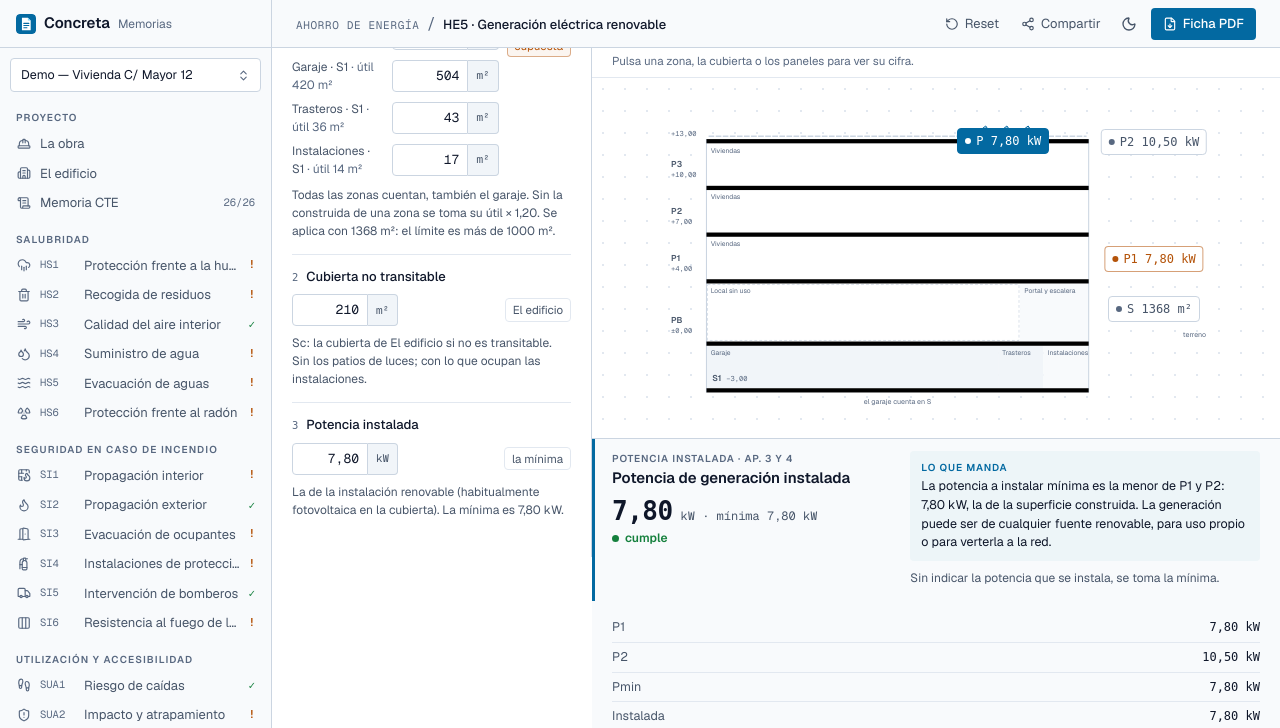
Test: HE5 · Generación eléctrica renovable (feature-22) › cabecera y decisiones; menos potencia de la mínima no cumple
(page scrolled)
expect the element "Superficie construida, cubierta y generación renovable" is shown: met, box [592,48,1279,557]
Replace the text in the field named "Potencia instalada" with "5" at (330, 459), box [292,443,368,475]
Then press Enter
(page scrolled)
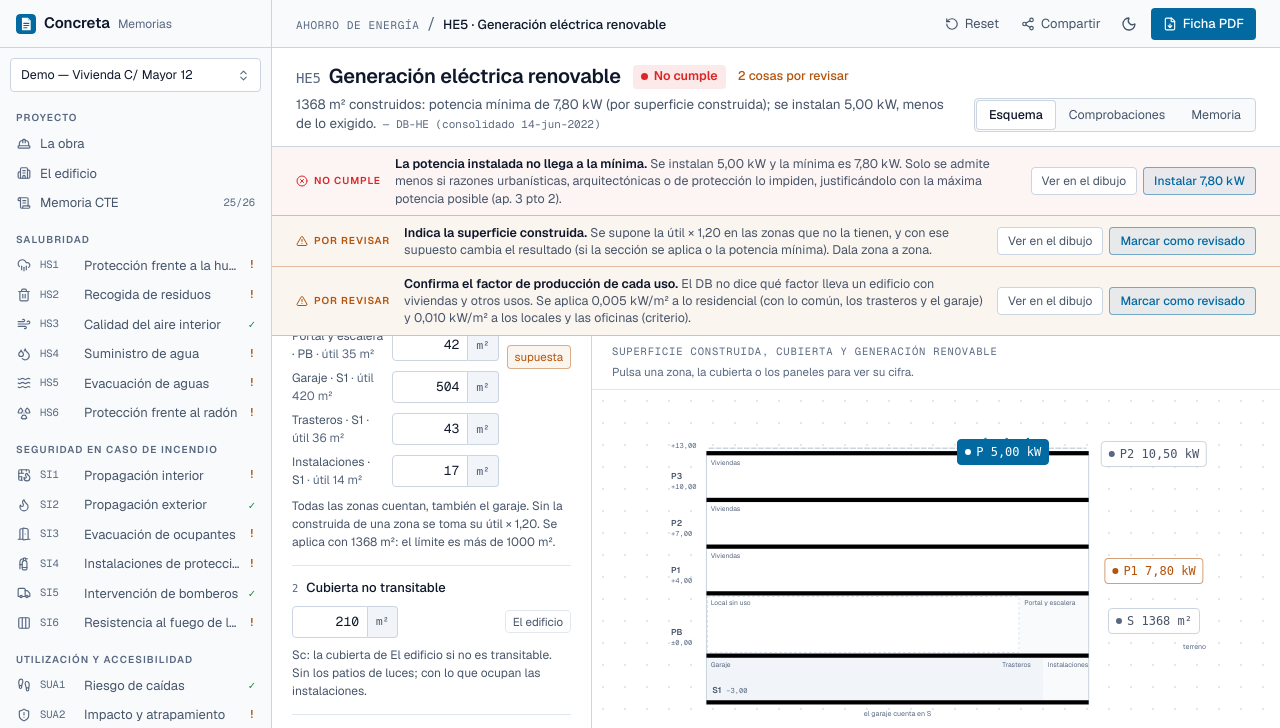
expect the element named "Avisos" shows "La potencia instalada no llega a la mínima.": met, box [395,155,647,172]
